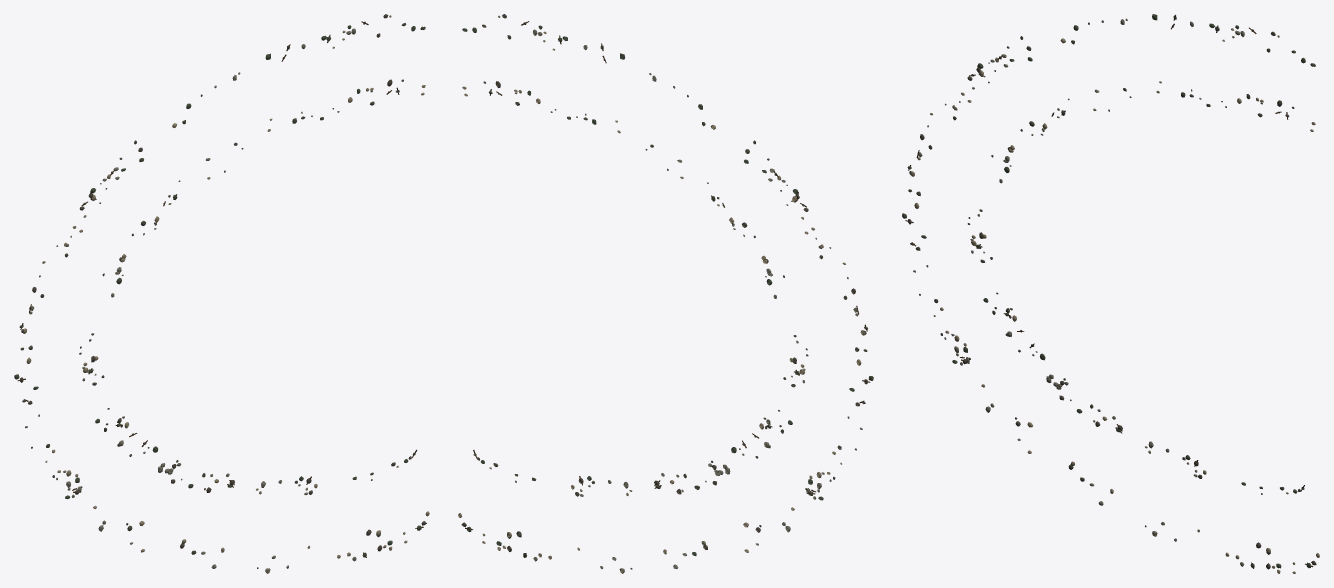
The model's file is roadside_details.obj.
The picture shows the model from 3 angles, left to right: view 1: azimuth 30°, elevation 25°; view 2: azimuth 150°, elevation 25°; view 3: azimuth 330°, elevation 25°; orthographic projection.
Parts seen in each view (by area): view 1: roadside_details; view 2: roadside_details; view 3: roadside_details.
Part boxes in pixels (x1,y1,x2,y2): roadside_details: (14,14,429,573); roadside_details: (458,14,873,573); roadside_details: (902,14,1319,573).
Size of the model in its own units: 38.84 by 48.25 by 0.5425.
